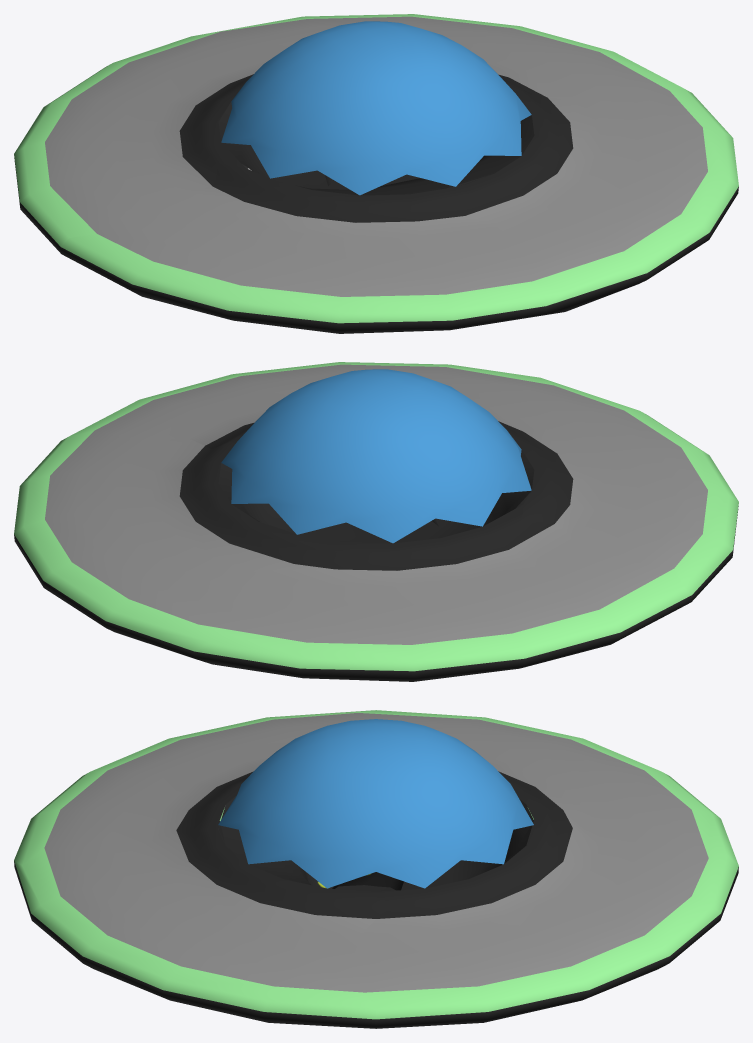
The model's file is UFO_Parts.fbx.
3 renders of one model, top to bottom at view 1: azimuth 30°, elevation 25°; view 2: azimuth 150°, elevation 25°; view 3: azimuth 270°, elevation 25°, orthographic.
Parts seen in each view (by area): view 1: ufo.parts.013, ufo.parts.012, ufo.parts.014, ufo.parts.004, ufo.parts.015, ufo.parts.001, ufo.parts.005, ufo.parts.002, ufo.parts.011, ufo.parts.010; view 2: ufo.parts.014, ufo.parts.015, ufo.parts.013, ufo.parts.004, ufo.parts.012, ufo.parts.003, ufo.parts.005, ufo.parts.002, ufo.parts.011, ufo.parts.010; view 3: ufo.parts.015, ufo.parts.012, ufo.parts.014, ufo.parts.013, ufo.parts.002, ufo.parts.005, ufo.parts.003, ufo.parts.001, ufo.parts.010, ufo.parts.011, ufo.parts.008.
Boxes of the visible parts, x1,y1,x2,y2 form: ufo.parts.013: [61, 162, 566, 333]; ufo.parts.012: [446, 87, 738, 313]; ufo.parts.014: [14, 32, 274, 253]; ufo.parts.004: [221, 42, 368, 195]; ufo.parts.015: [196, 14, 682, 100]; ufo.parts.001: [360, 70, 521, 195]; ufo.parts.005: [301, 21, 451, 90]; ufo.parts.002: [421, 28, 531, 155]; ufo.parts.011: [218, 102, 465, 195]; ufo.parts.010: [390, 115, 534, 192]; ufo.parts.014: [194, 505, 691, 681]; ufo.parts.015: [14, 430, 307, 658]; ufo.parts.013: [480, 378, 738, 601]; ufo.parts.004: [384, 390, 531, 543]; ufo.parts.012: [70, 362, 552, 449]; ufo.parts.003: [231, 418, 392, 543]; ufo.parts.005: [301, 369, 451, 438]; ufo.parts.002: [221, 376, 331, 503]; ufo.parts.011: [361, 450, 534, 543]; ufo.parts.010: [218, 463, 366, 542]; ufo.parts.015: [361, 820, 738, 1028]; ufo.parts.012: [14, 821, 388, 1028]; ufo.parts.014: [358, 710, 738, 865]; ufo.parts.013: [14, 710, 373, 865]; ufo.parts.002: [248, 773, 503, 888]; ufo.parts.005: [303, 719, 448, 777]; ufo.parts.003: [443, 733, 533, 863]; ufo.parts.001: [218, 733, 309, 863]; ufo.parts.010: [218, 822, 533, 891]; ufo.parts.011: [218, 796, 533, 887]; ufo.parts.008: [332, 872, 403, 890].
Bounding box in the file's own units: 1228 × 440 × 1227.
Materials: 1 (1 with a texture image).
